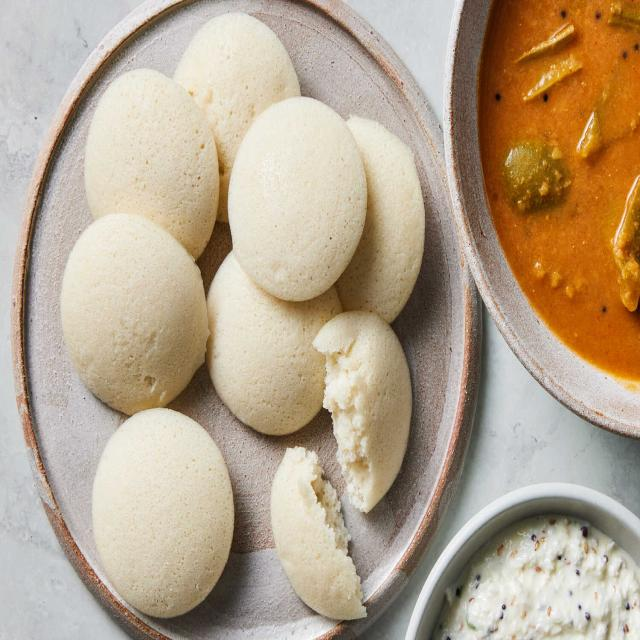idli: (60, 214, 207, 423), (97, 411, 236, 620), (225, 102, 369, 302), (86, 78, 222, 268), (197, 252, 336, 436), (177, 14, 302, 202), (324, 110, 429, 328), (316, 307, 414, 516), (273, 442, 367, 640)
